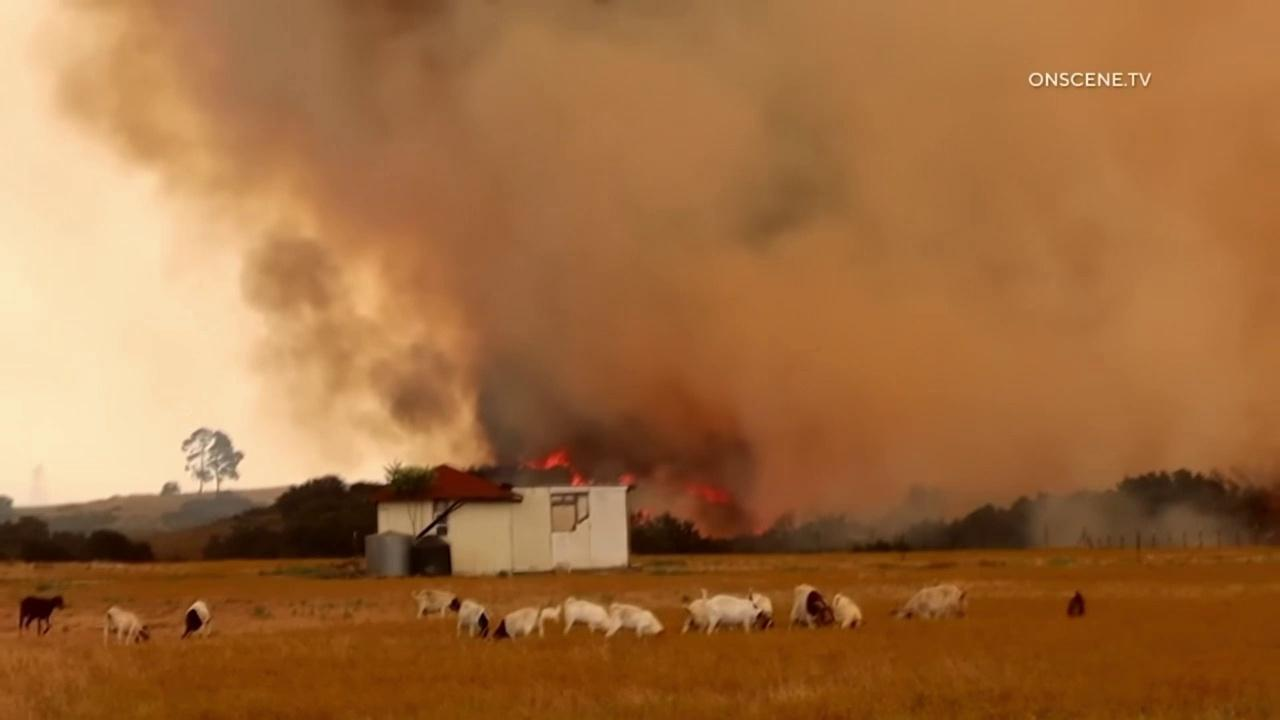fire: (519, 449, 586, 485), (685, 482, 731, 502), (634, 506, 655, 527), (617, 471, 636, 485), (754, 528, 764, 536)
smoke: (43, 0, 1280, 550)
